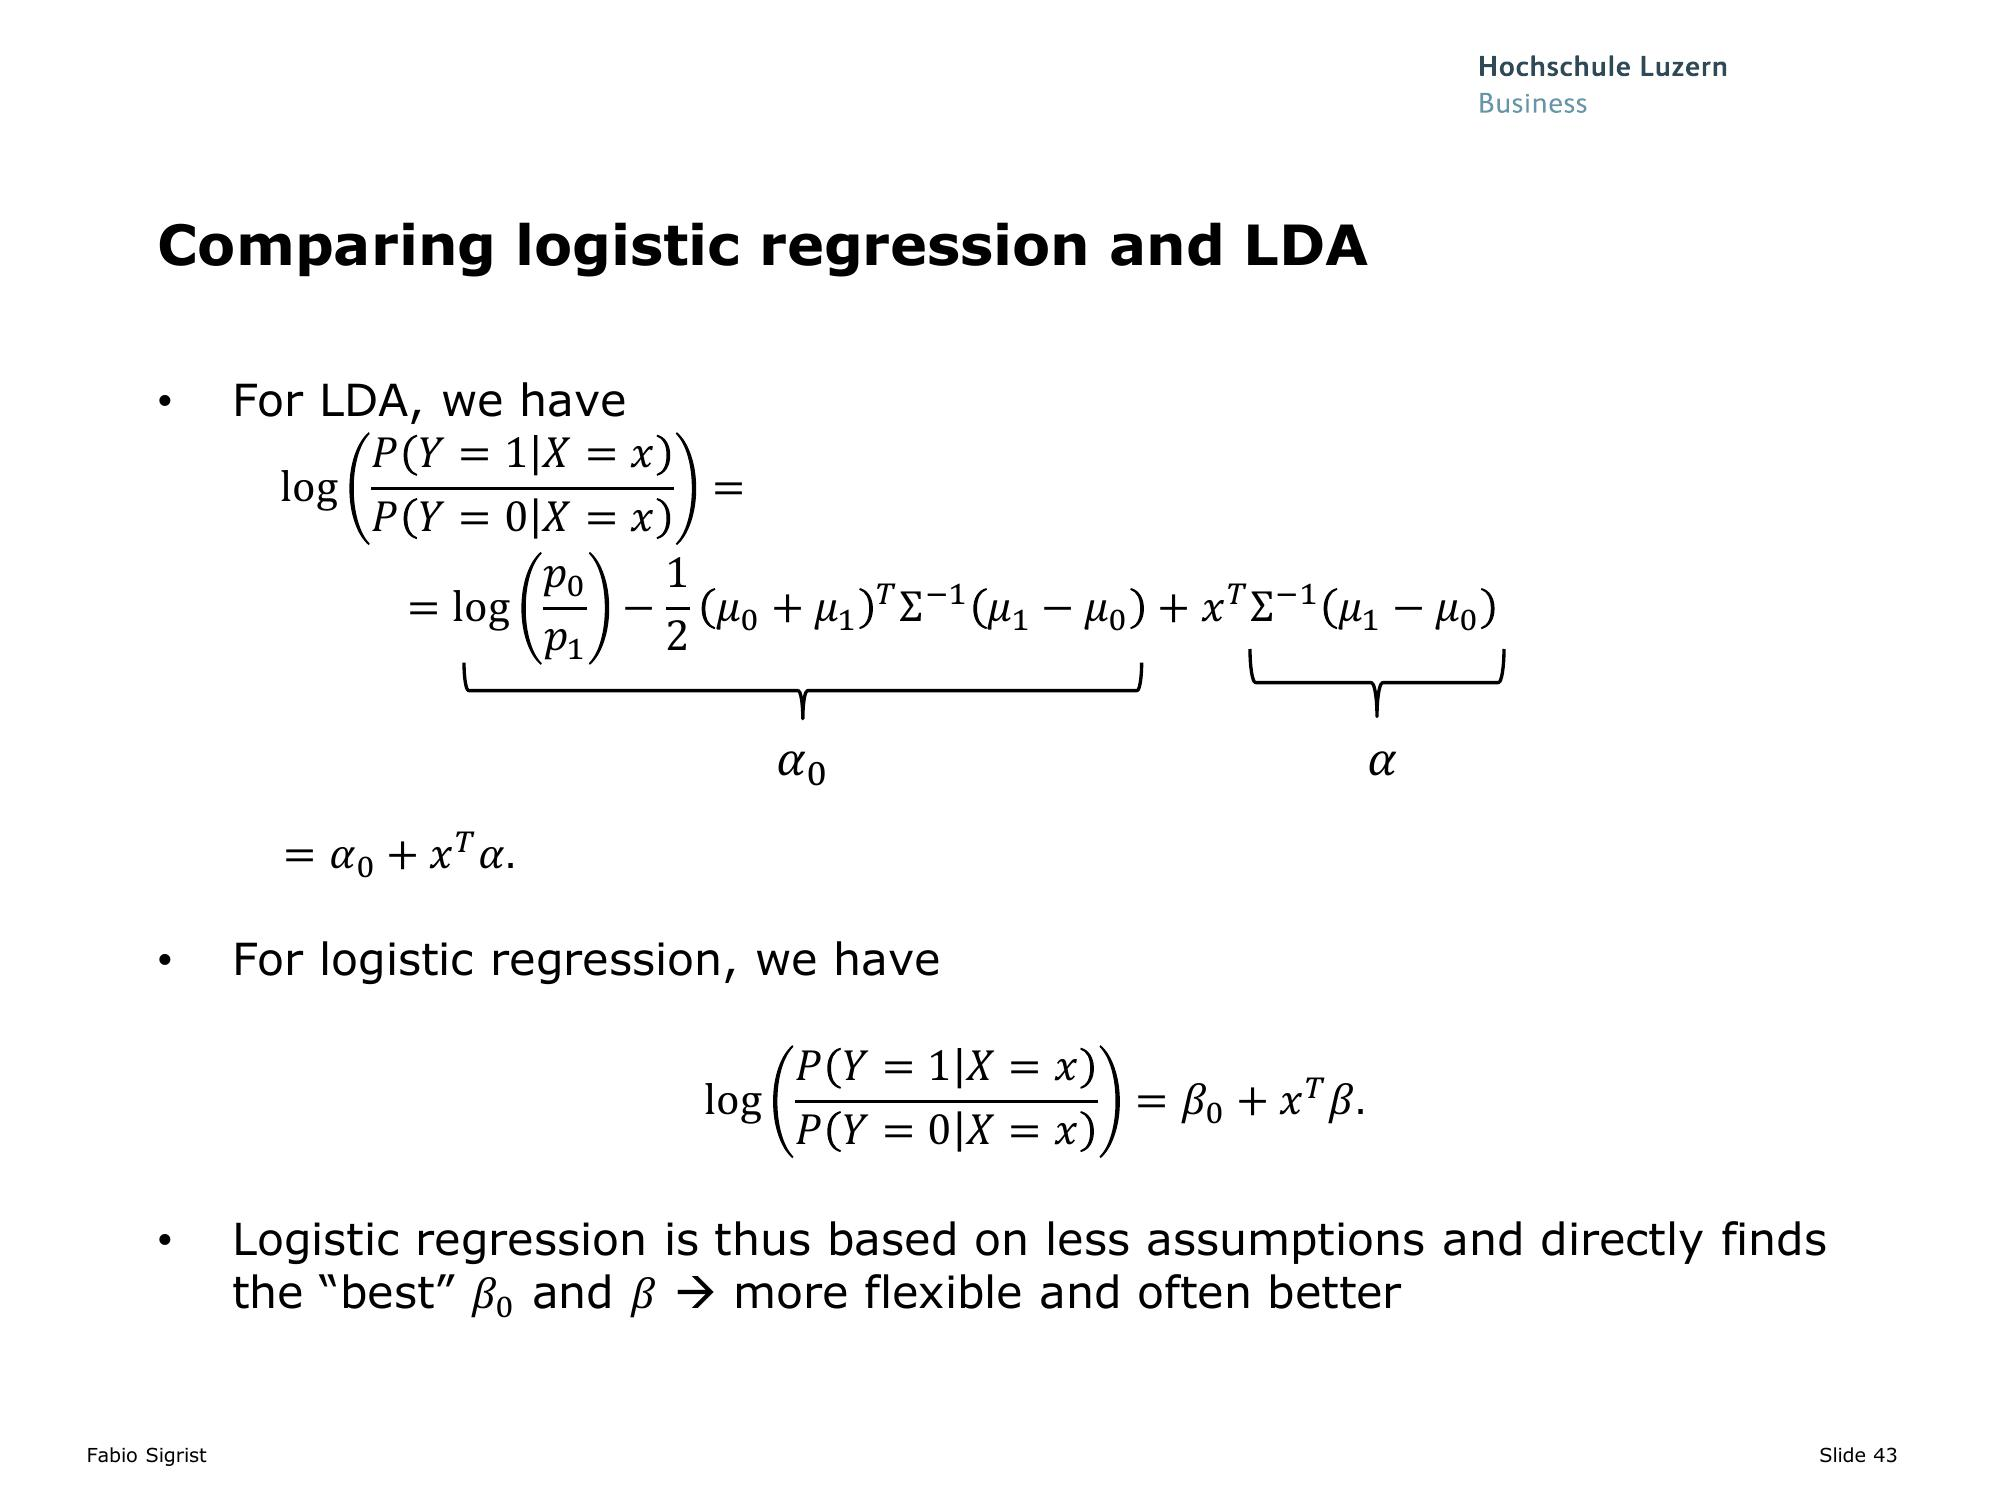Title: (120, 206, 1386, 295)
